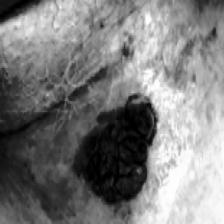Toxin: (71, 92, 156, 204)
